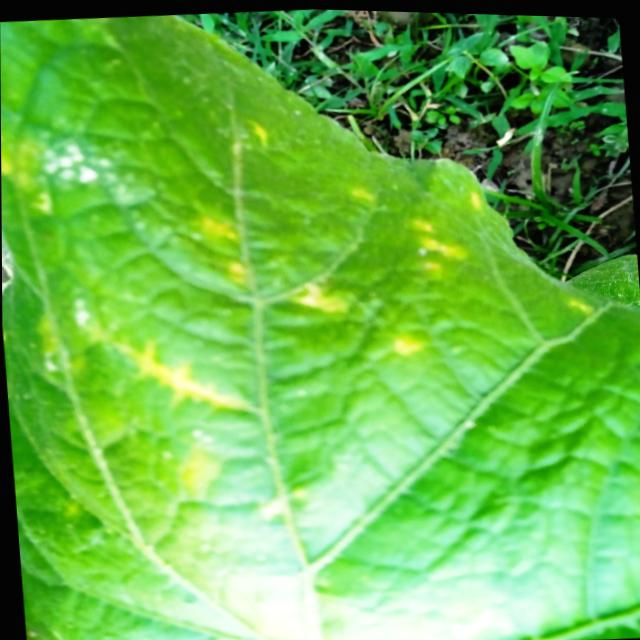Downy-Mildew: (0, 14, 602, 640)
